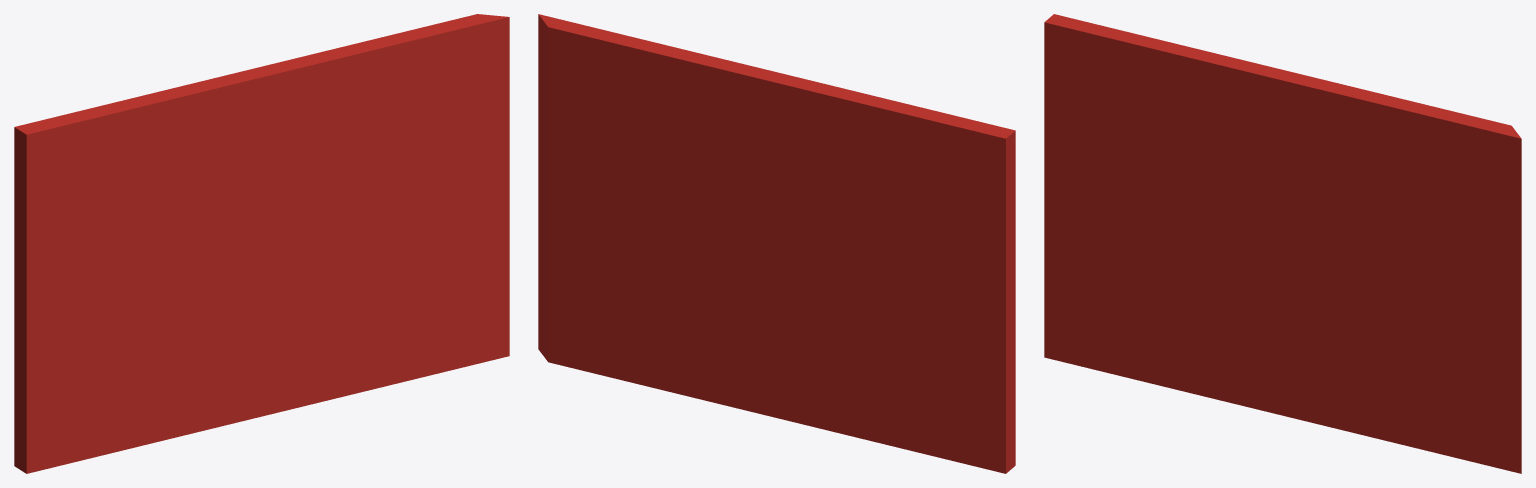
The model's file is Room Information Walls.gltf.
The picture shows the model from 3 angles, left to right: view 1: azimuth 30°, elevation 25°; view 2: azimuth 150°, elevation 25°; view 3: azimuth 330°, elevation 25°; orthographic projection.
Parts seen in each view (by area): view 1: Information Room Walls; view 2: Information Room Walls; view 3: Information Room Walls.
Boxes of the visible parts, box(x1,y1,x2,y2) form: Information Room Walls: box(14, 14, 509, 473); Information Room Walls: box(538, 14, 1015, 473); Information Room Walls: box(1044, 14, 1521, 473).
Bounding box in the file's own units: 0.4615 × 0.3089 × 0.0184.
Materials: 1 (1 with a texture image).
